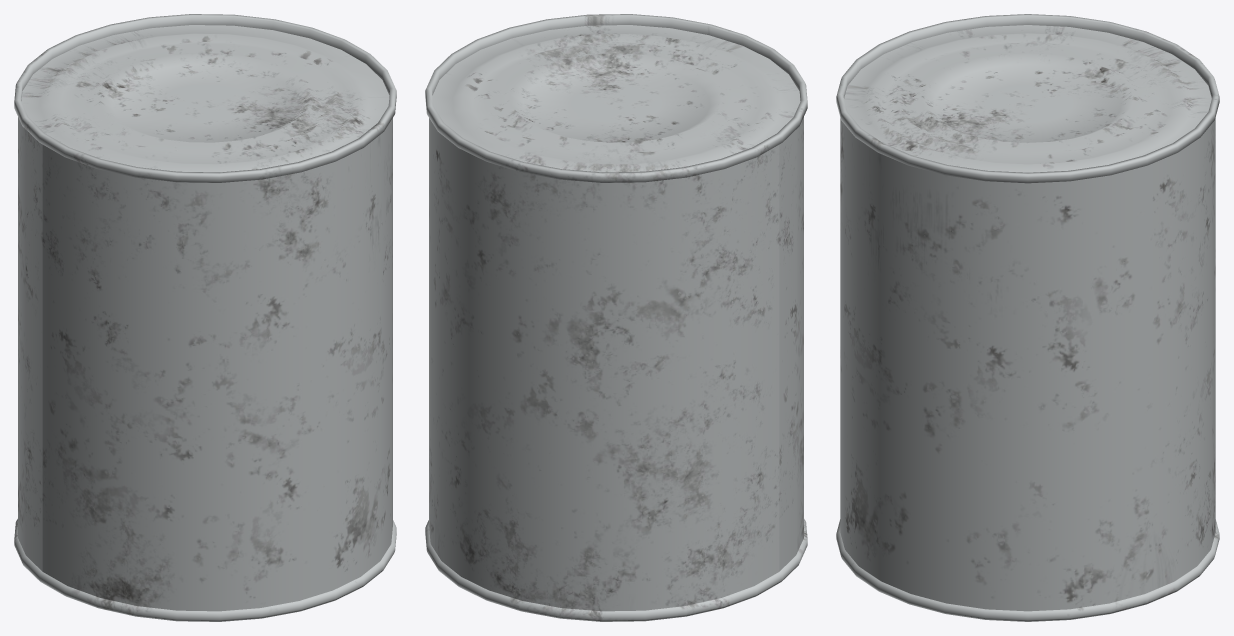
The model's file is tin can.fbx.
The picture shows the model from 3 angles, left to right: view 1: azimuth 30°, elevation 25°; view 2: azimuth 150°, elevation 25°; view 3: azimuth 270°, elevation 25°; orthographic projection.
Parts seen in each view (by area): view 1: Cam_l__0; view 2: Cam_l__0; view 3: Cam_l__0.
Boxes of the visible parts, x1=… form: Cam_l__0: x1=14, y1=14, x2=396, y2=621; Cam_l__0: x1=425, y1=14, x2=807, y2=621; Cam_l__0: x1=836, y1=14, x2=1219, y2=621.
Bounding box in the file's own units: 1265 × 1628 × 1265.
1 material, 1 textured.
